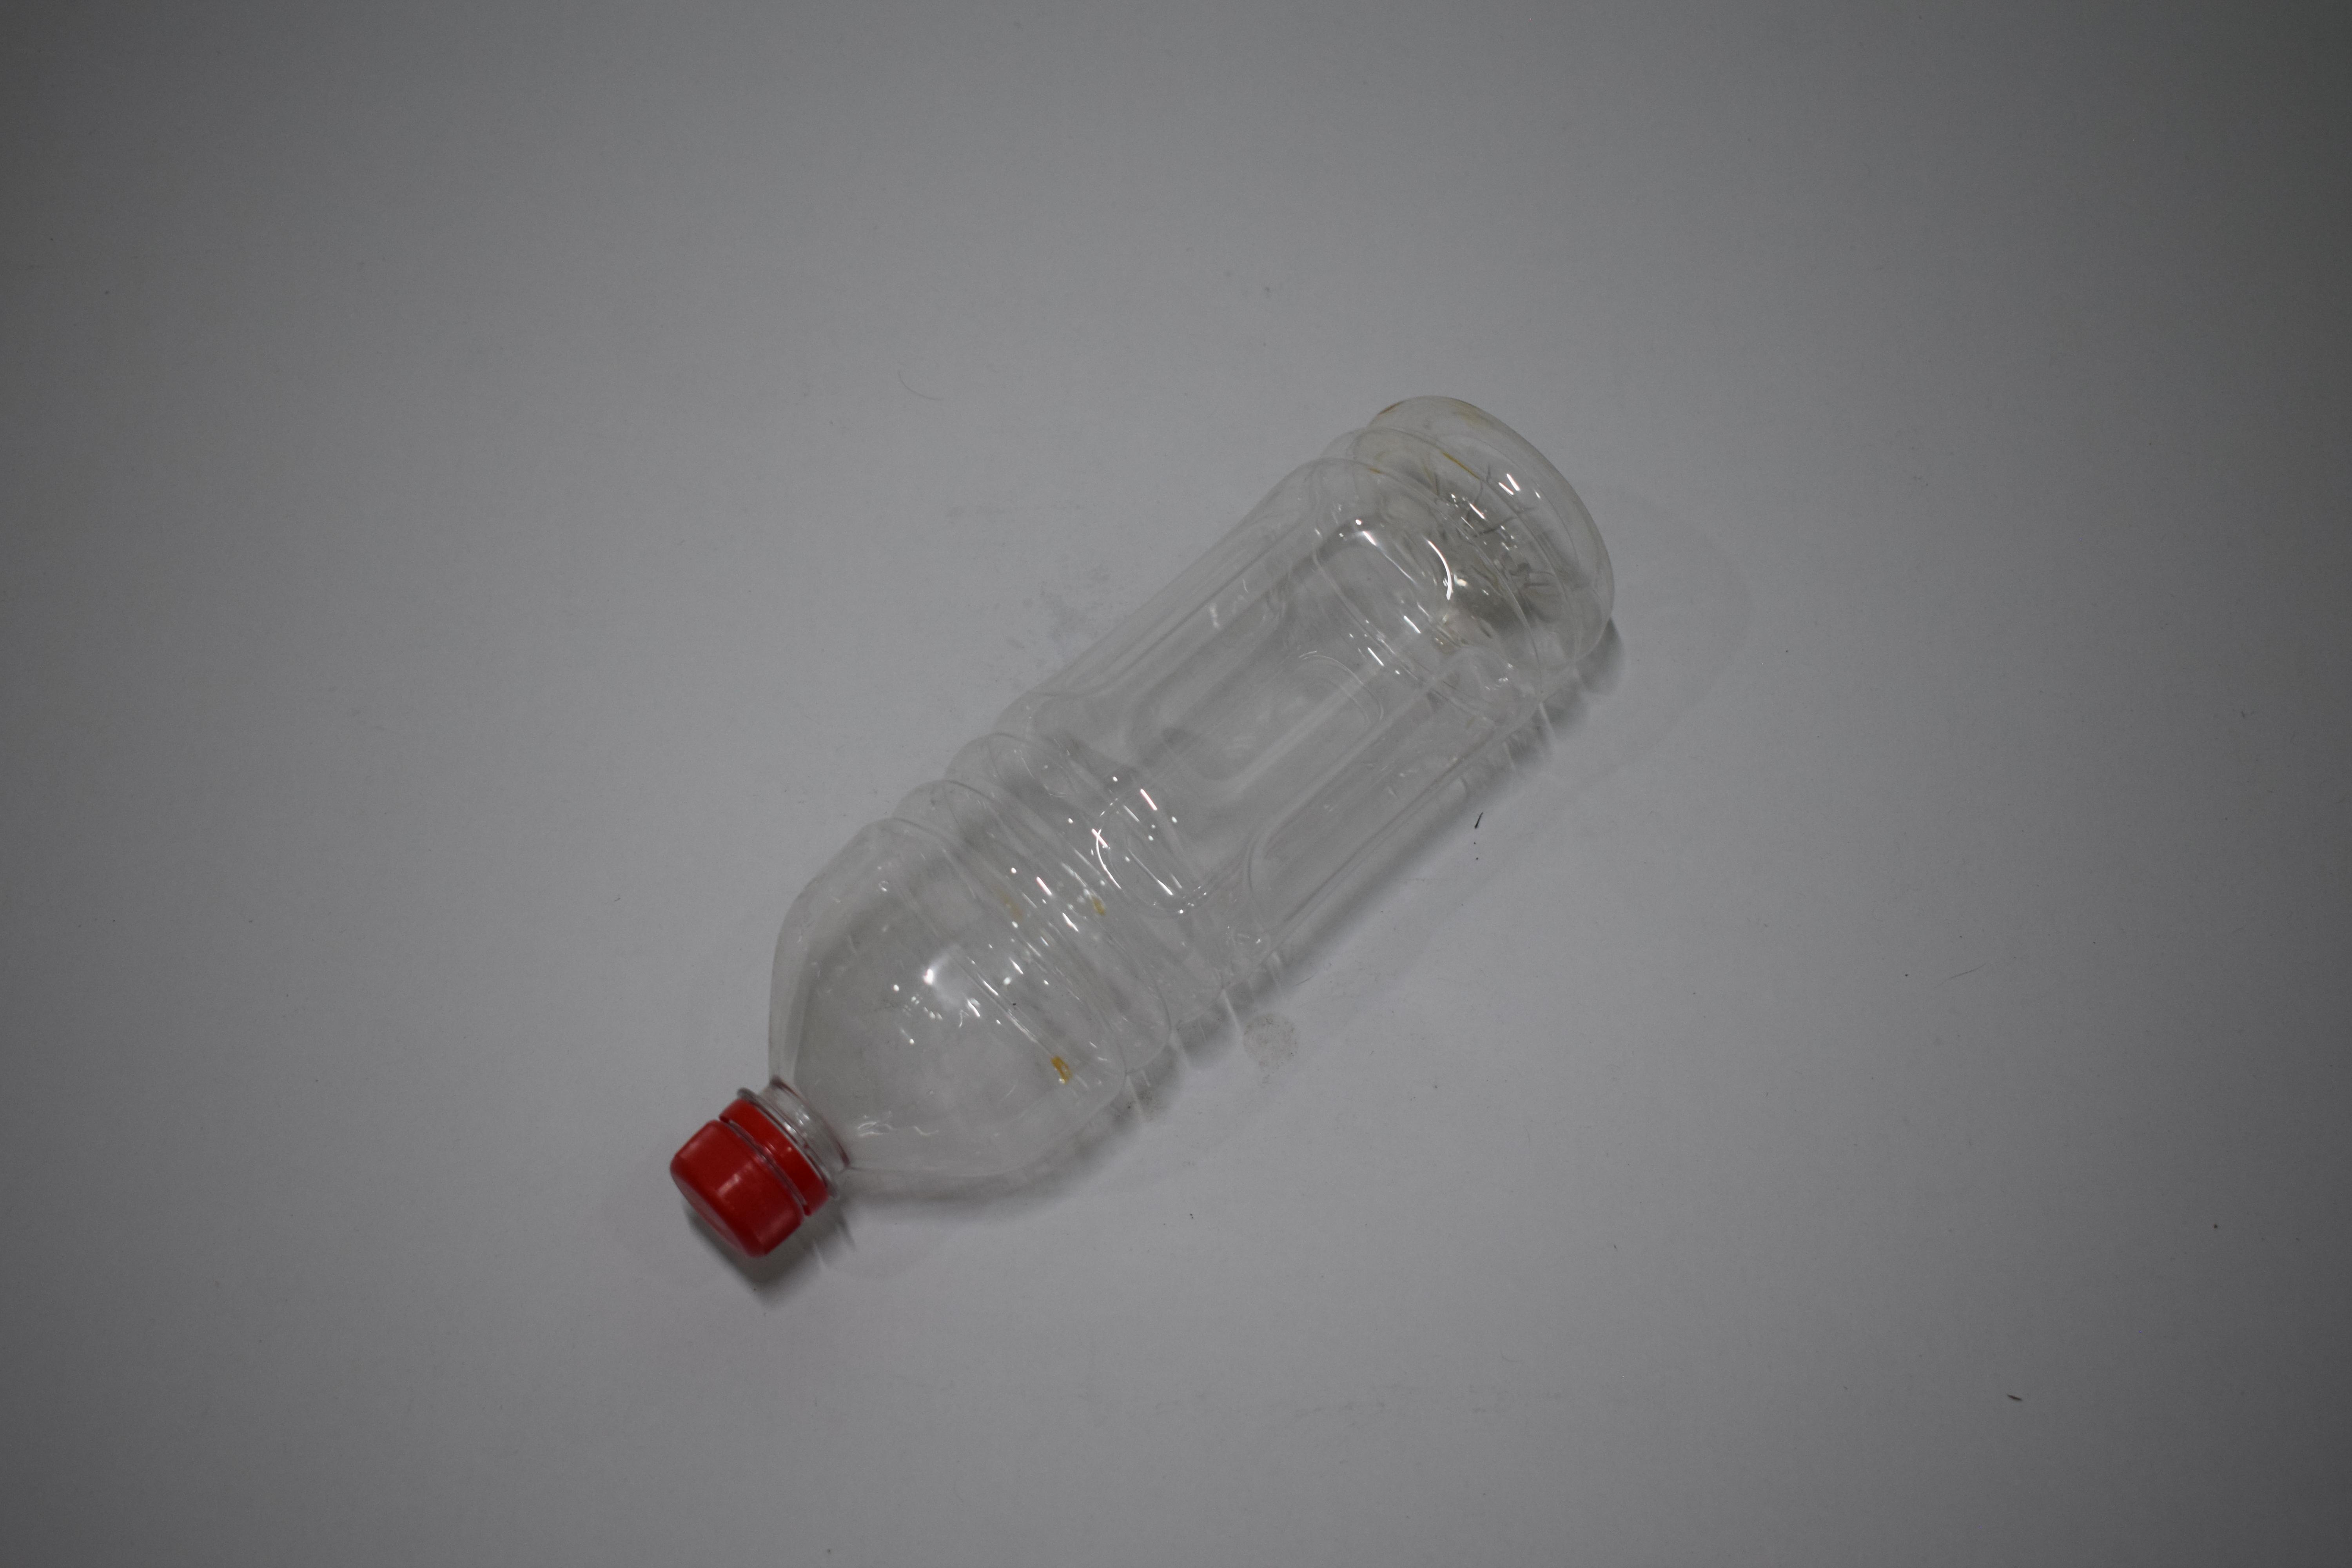bottle: (651, 0, 1612, 98)
